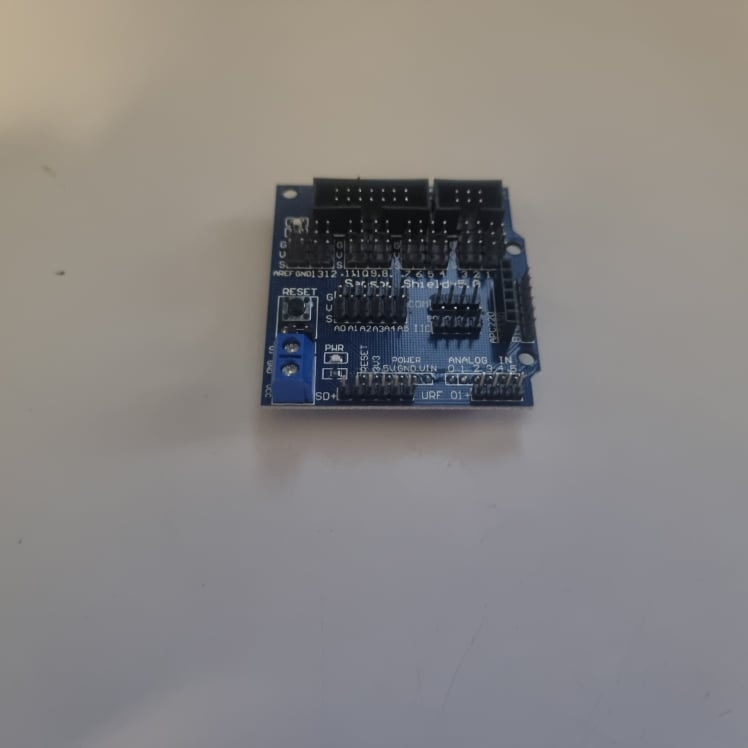5V EXPANSION: (258, 171, 546, 414)
